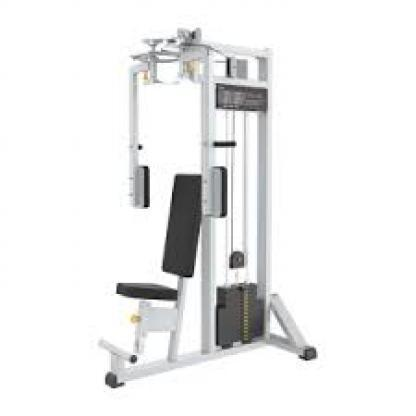chest fly machine: (90, 20, 331, 394)
